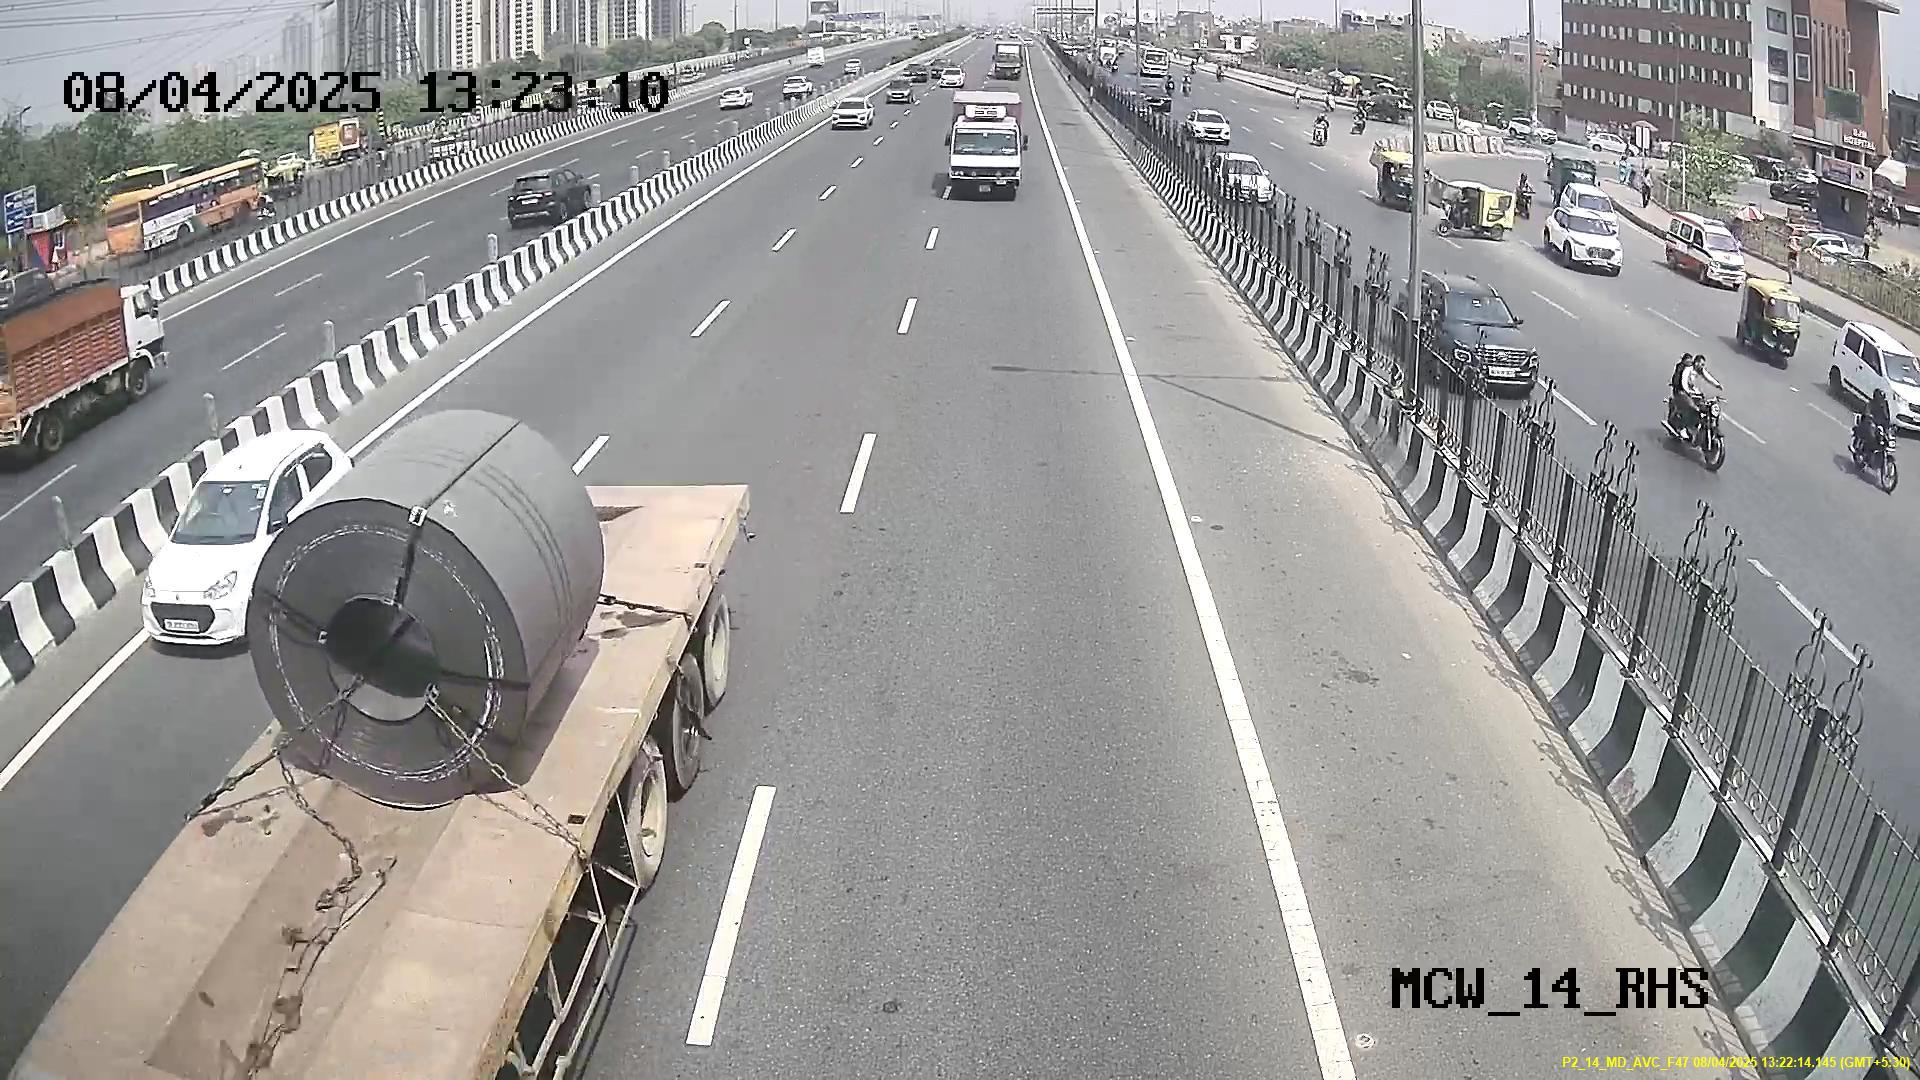car: (140, 458, 276, 653)
lcv: (945, 115, 1025, 202)
